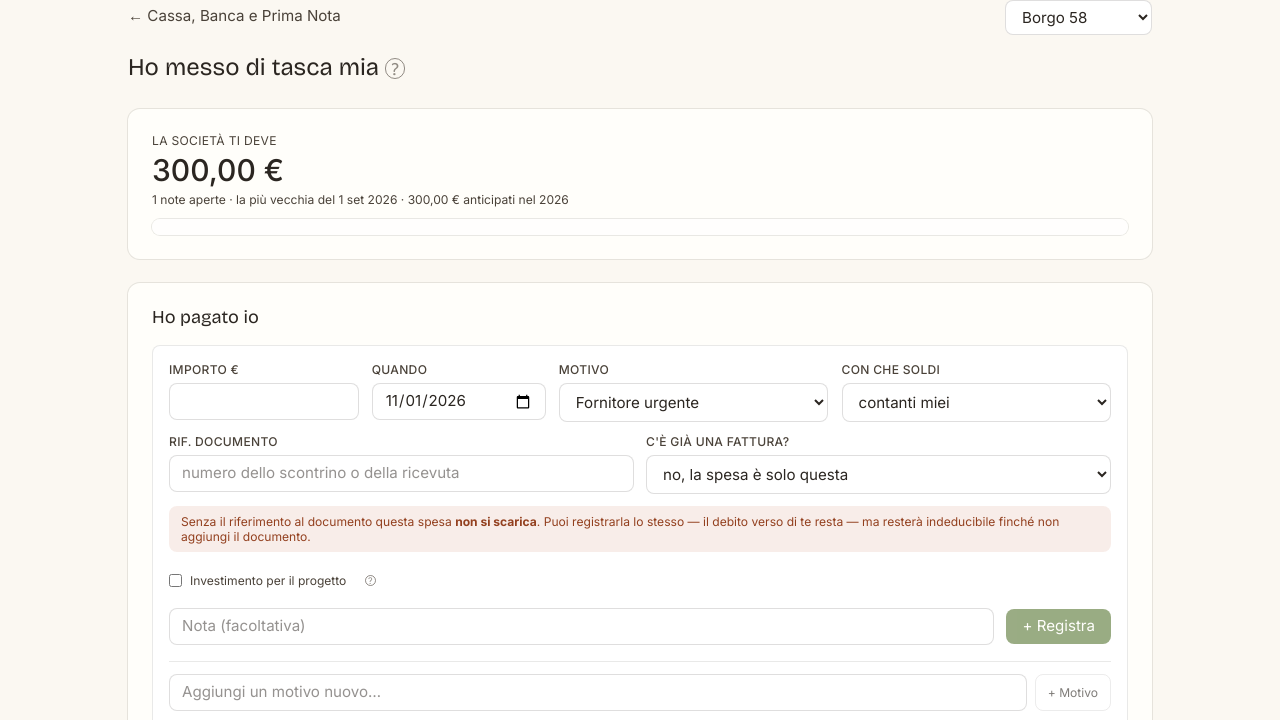
Test: 🔴 l'aiuto dell'etichetta dice la società giusta › su Borgo 58 nomina Borgo 58, e dice che conta nel totale
Click the button named "Cosa vuol dire «investimento per il progetto»" at coordinates (370, 580), box x1=354 y1=564 x2=386 y2=596
(page scrolled)
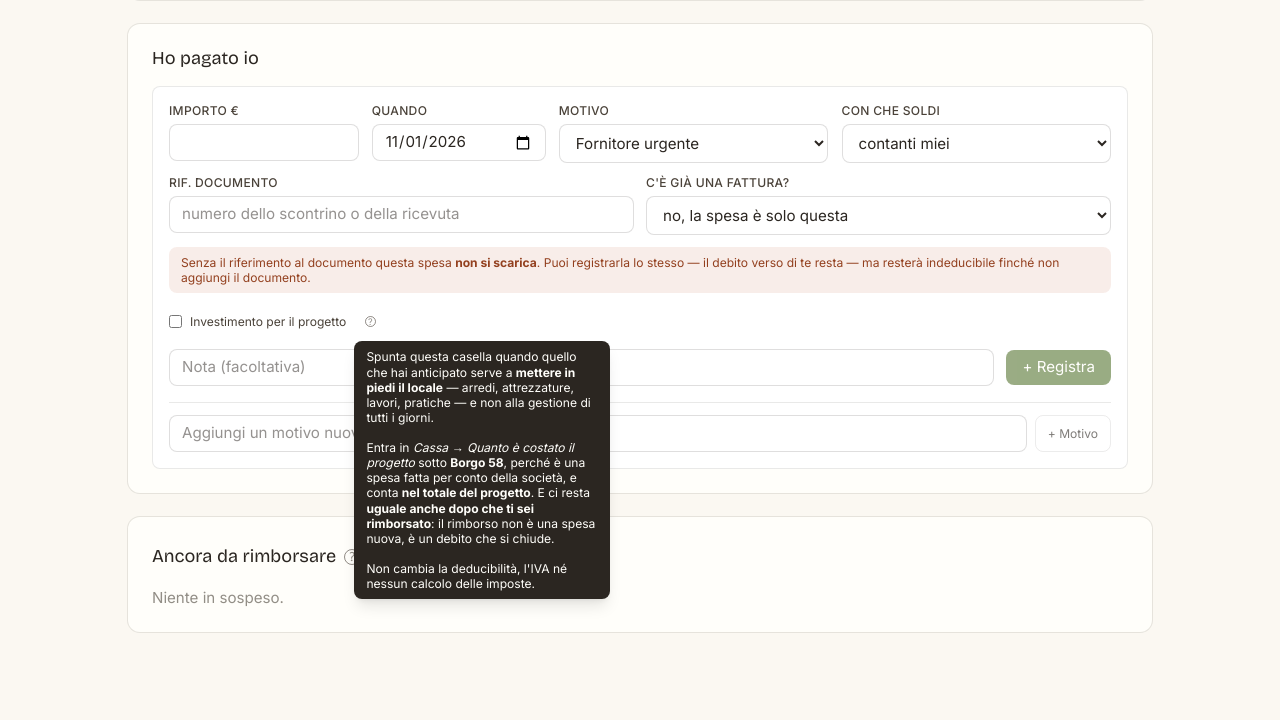
Expected: the tooltip does not show "Orto"
Result: the tooltip shows "sotto Borgo 58" at x1=354 y1=341 x2=610 y2=599
Result: the tooltip shows "nel totale del progetto" at x1=402 y1=485 x2=531 y2=500
